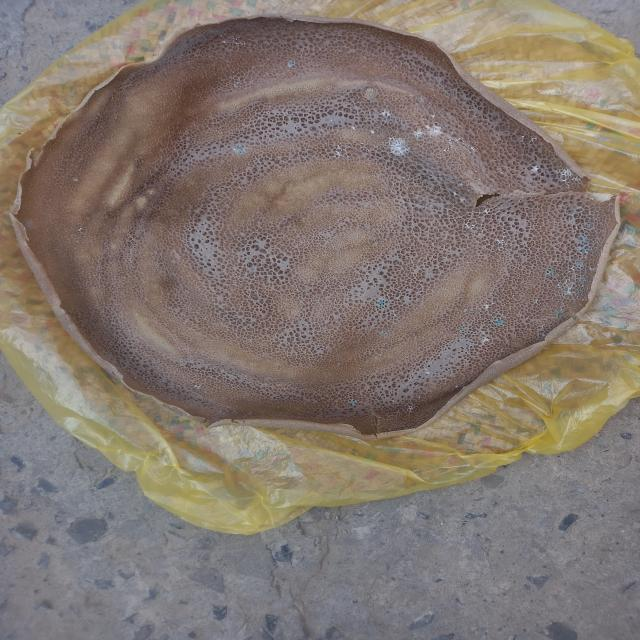injera_mold: (391, 139, 407, 154), (558, 168, 571, 178), (336, 142, 343, 160), (465, 220, 477, 230), (428, 126, 441, 135), (233, 146, 246, 154), (416, 128, 425, 138), (528, 136, 540, 142), (546, 269, 554, 276), (348, 398, 356, 405), (382, 110, 391, 116), (193, 384, 202, 390), (407, 404, 413, 413), (521, 135, 526, 145), (565, 279, 572, 286), (498, 240, 505, 247), (389, 310, 397, 316), (469, 145, 474, 154), (556, 310, 562, 317), (534, 298, 540, 305), (553, 260, 560, 266), (484, 304, 492, 309), (380, 331, 388, 336), (496, 247, 504, 252), (580, 246, 586, 252), (580, 278, 586, 284), (562, 178, 568, 184), (460, 327, 466, 333), (379, 300, 385, 306), (577, 262, 582, 269), (482, 338, 489, 343), (572, 178, 580, 182), (559, 283, 563, 291), (234, 83, 240, 88), (220, 33, 227, 37), (290, 61, 294, 68), (451, 132, 458, 136), (578, 289, 582, 296), (568, 288, 572, 295), (332, 154, 339, 158), (442, 139, 451, 142), (454, 192, 459, 197), (430, 114, 436, 118), (568, 209, 572, 215), (578, 237, 584, 241), (577, 206, 581, 212), (460, 200, 468, 203), (546, 148, 552, 152), (484, 208, 488, 214), (454, 139, 461, 142), (222, 40, 226, 45), (464, 309, 470, 312), (498, 320, 502, 324), (352, 126, 357, 129), (444, 148, 449, 151), (591, 268, 594, 273), (541, 334, 546, 337), (534, 167, 538, 170), (79, 228, 83, 231), (608, 203, 612, 206), (28, 222, 30, 227), (466, 138, 471, 140), (234, 38, 238, 40), (241, 43, 245, 45), (456, 146, 458, 150), (325, 150, 328, 152), (460, 182, 463, 184), (74, 180, 78, 181), (98, 348, 100, 350), (123, 369, 125, 371), (148, 370, 149, 374), (474, 140, 475, 144), (500, 172, 502, 174), (372, 131, 373, 133), (123, 360, 128, 360), (136, 377, 136, 378), (129, 358, 139, 358)
